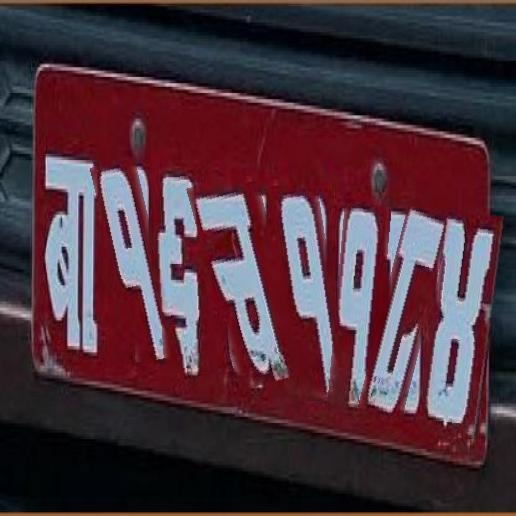1: (102, 159, 171, 373), (278, 188, 342, 402), (331, 204, 387, 417)
4: (425, 211, 498, 438)
6: (154, 167, 212, 382)
8: (370, 207, 440, 421)
ba: (41, 154, 107, 356)
cha: (199, 173, 296, 388)
